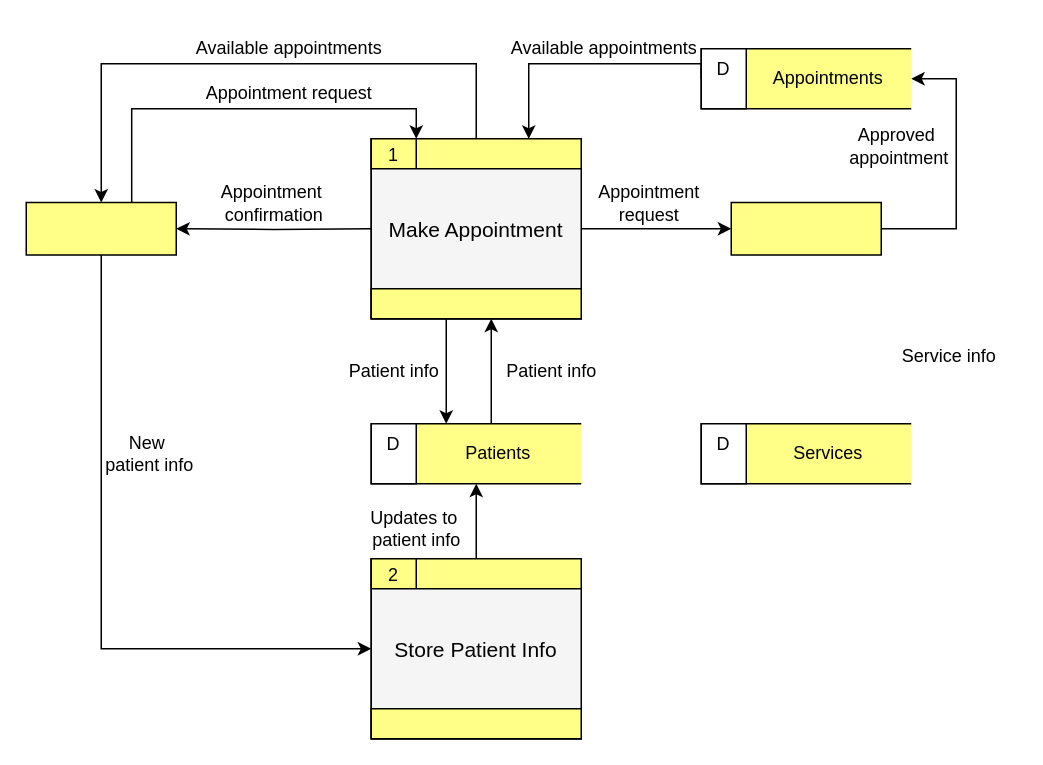
Image size: 1043x765. Some labels were removed from this diagram. Each missing label, with the centre of its shape:
"Admin" goes at point (805, 228).
"Patient" goes at point (100, 228).
